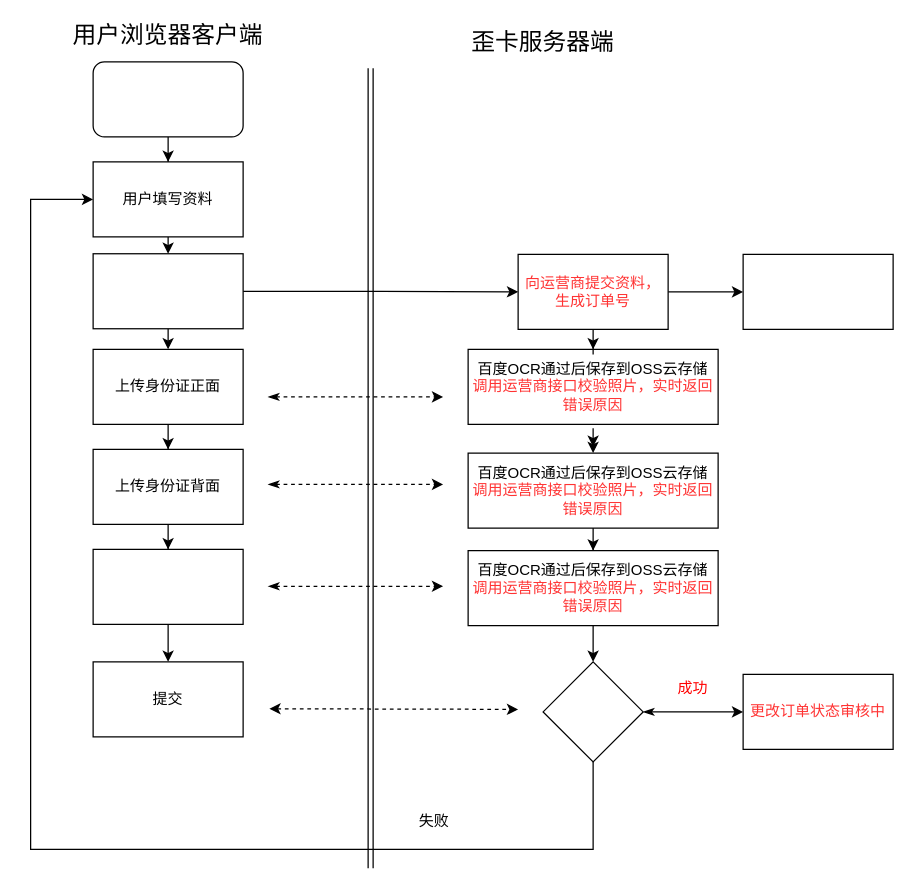
This 915x890 diagram has some shape labels left out. The shapes that lost their labels are listed below. From the top down, each one's box as (x1, y1, x2, y2) in pixels, then its label:
(92, 61, 243, 137): 开始
(92, 252, 243, 329): 提交资料
(742, 253, 893, 329): 入库生成歪卡订单 (状态：待实名)
(92, 548, 243, 624): 上传半身头像
(542, 661, 643, 762): 全部成功？
